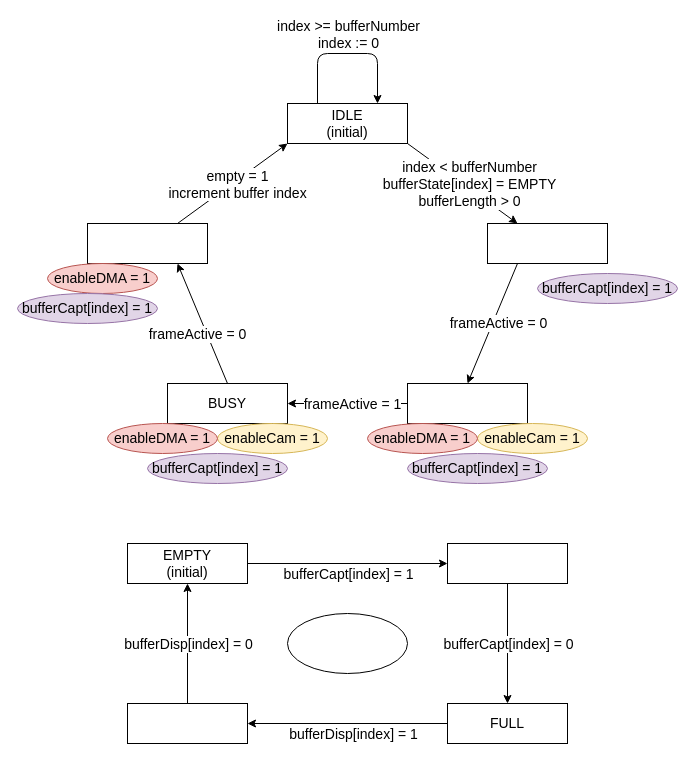
Image size: 695x761. Some labels were removed from this diagram. Each missing label, with the centre of its shape:
"ARMED" goes at [547,243].
"CAPTURING" goes at [507,563].
"DISPLAYING" goes at [187,723].
"ENABLED" goes at [467,403].
"FLUSHING" goes at [147,243].
"For each buffer" goes at [347,643].
